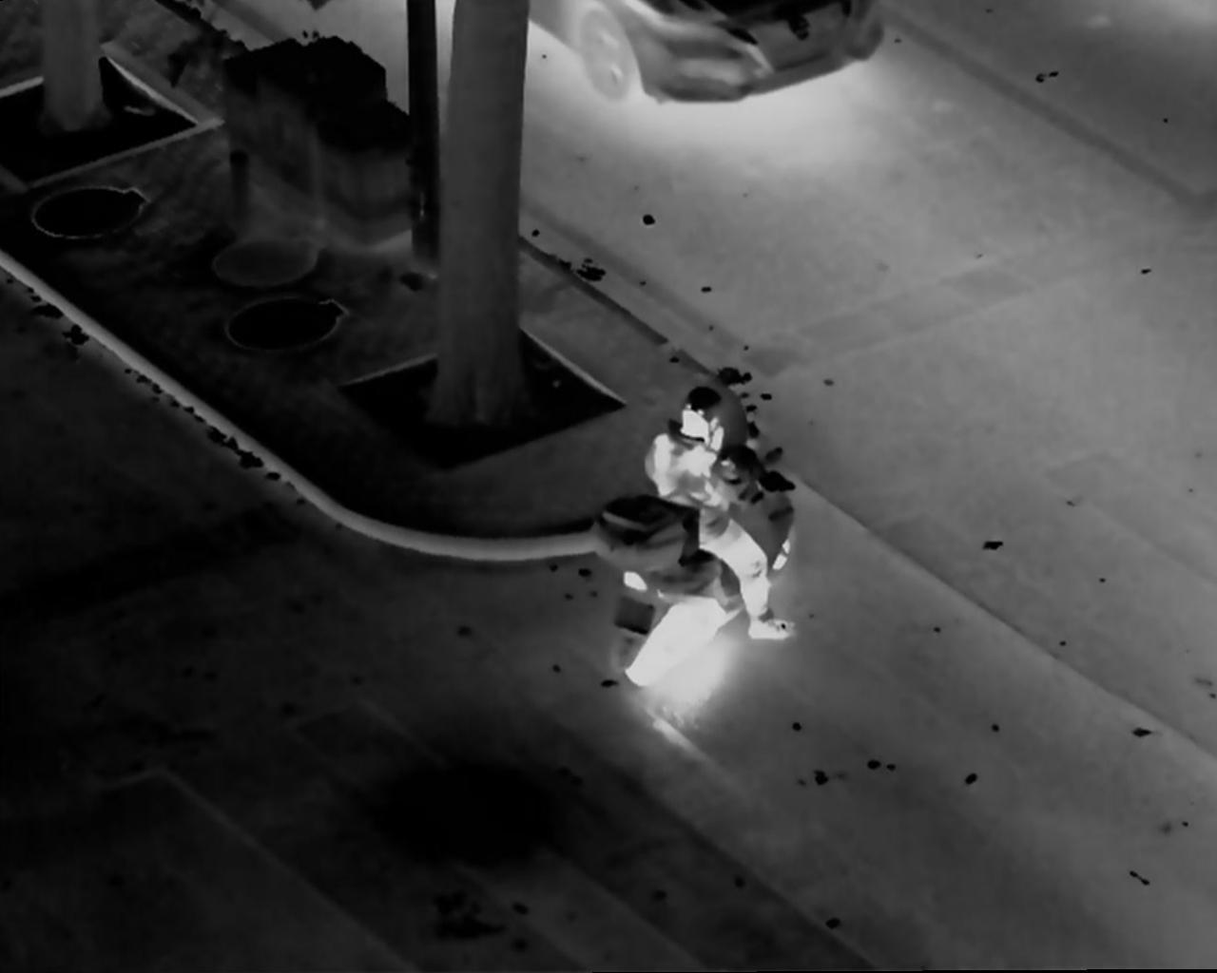person: (638, 386, 801, 647)
